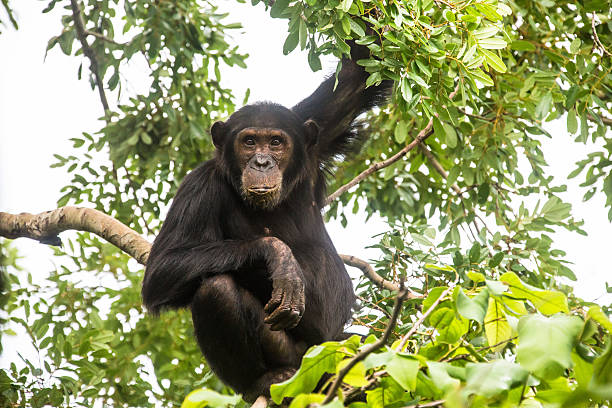chimpanzee: (201, 90, 328, 225)
